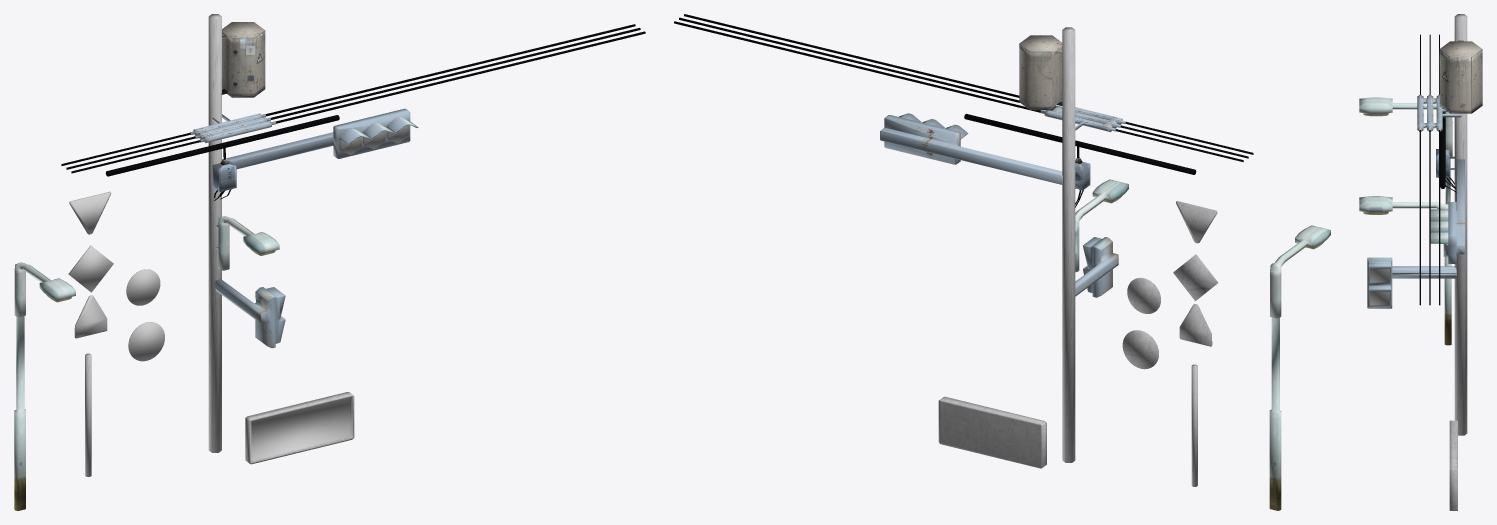
File: Traffic Items.fbx
3 renders of one model, left to right at view 1: azimuth 30°, elevation 25°; view 2: azimuth 150°, elevation 25°; view 3: azimuth 270°, elevation 25°, orthographic. The views are drawn at different scales.
Visible parts, largest first — view 1: Store Sign, Pole, Traffic Light, Wires, Lamp Full, Transformer, Pedestrian Light, Wires Free, Thick Wire, Lamp Half, Fork, School Zone (+5 smaller); view 2: Pole, Store Sign, Traffic Light, Lamp Full, Wires, Transformer, Wires Free, Pedestrian Light, Thick Wire, Fork, School Zone, Lamp Half (+4 smaller); view 3: Pole, Transformer, Pedestrian Light, Traffic Light, Lamp Full, Wires, Lamp Half, Store Sign, Wires Free, Thick Wire, FuseBox.
Part boxes in pixels (bbox=[...]): Store Sign: bbox=[245, 392, 354, 464]; Pole: bbox=[208, 14, 221, 452]; Traffic Light: bbox=[222, 108, 418, 169]; Wires: bbox=[61, 79, 418, 173]; Lamp Full: bbox=[14, 262, 75, 510]; Transformer: bbox=[221, 22, 265, 97]; Pedestrian Light: bbox=[215, 278, 285, 348]; Wires Free: bbox=[408, 24, 645, 88]; Thick Wire: bbox=[105, 115, 339, 176]; Lamp Half: bbox=[216, 216, 279, 270]; Fork: bbox=[128, 322, 164, 361]; School Zone: bbox=[68, 245, 113, 292]; Pole: bbox=[1062, 27, 1075, 462]; Store Sign: bbox=[938, 396, 1046, 468]; Traffic Light: bbox=[880, 113, 1062, 184]; Lamp Full: bbox=[1269, 225, 1330, 510]; Wires: bbox=[899, 69, 1253, 162]; Transformer: bbox=[1019, 35, 1062, 110]; Wires Free: bbox=[674, 14, 909, 78]; Pedestrian Light: bbox=[1075, 237, 1118, 297]; Thick Wire: bbox=[964, 113, 1196, 174]; Fork: bbox=[1122, 330, 1158, 369]; School Zone: bbox=[1173, 254, 1217, 301]; Lamp Half: bbox=[1075, 179, 1128, 272]; Pole: bbox=[1454, 14, 1467, 435]; Transformer: bbox=[1439, 40, 1482, 113]; Pedestrian Light: bbox=[1367, 257, 1456, 308]; Traffic Light: bbox=[1430, 159, 1464, 263]; Lamp Full: bbox=[1359, 97, 1452, 345]; Wires: bbox=[1417, 34, 1461, 196]; Lamp Half: bbox=[1359, 196, 1448, 257]; Store Sign: bbox=[1449, 420, 1457, 510]; Wires Free: bbox=[1419, 197, 1440, 305]; Thick Wire: bbox=[1440, 108, 1445, 188]; FuseBox: bbox=[1436, 149, 1456, 192].
Bounding box in the file's own units: 1708 × 1183 × 305.
